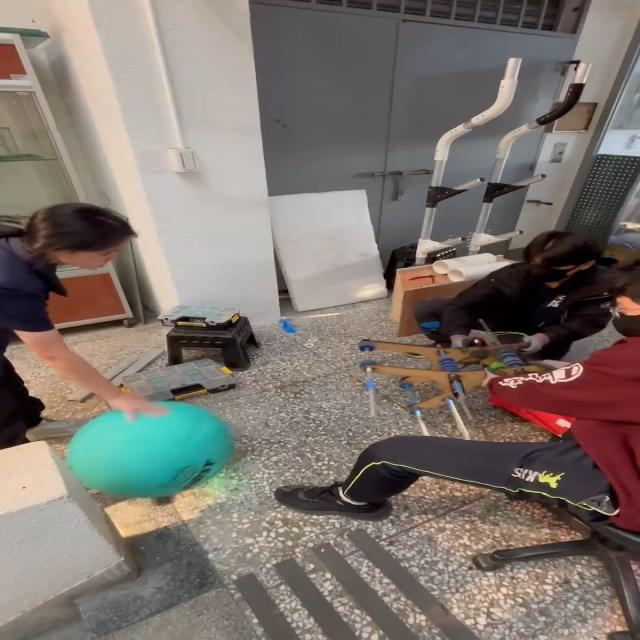ALGAE: (63, 399, 235, 499)
